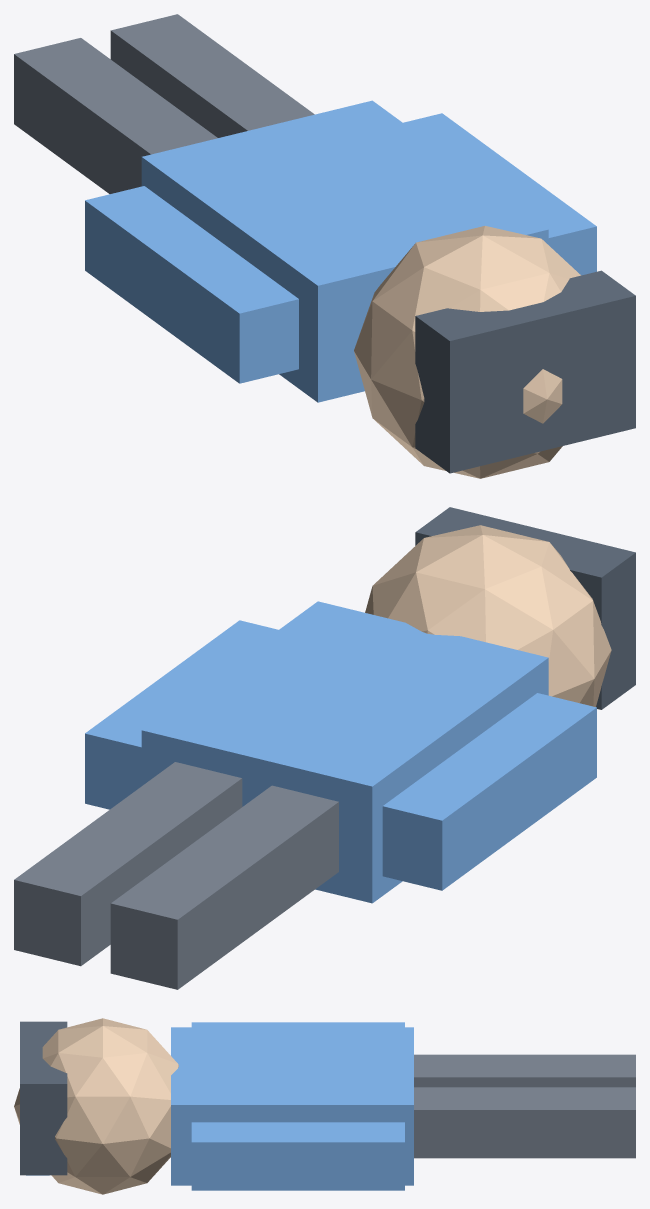
File: ops.glb
3 renders of one model, top to bottom at view 1: azimuth 30°, elevation 25°; view 2: azimuth 150°, elevation 25°; view 3: azimuth 270°, elevation 25°, orthographic. The views are drawn at different scales.
Visible parts, largest first — view 1: torso_2, hair_6, arm_l_3, head_5, leg_l_0, leg_r_1, arm_r_4; view 2: torso_2, leg_l_0, arm_l_3, head_5, leg_r_1, arm_r_4, hair_6; view 3: torso_2, head_5, leg_r_1, arm_r_4, leg_l_0, hair_6, arm_l_3.
Boxes of the visible parts, x1=… form: torso_2: x1=141, y1=100, x2=548, y2=402; hair_6: x1=415, y1=270, x2=635, y2=473; arm_l_3: x1=85, y1=186, x2=298, y2=383; head_5: x1=354, y1=226, x2=580, y2=478; leg_l_0: x1=14, y1=38, x2=217, y2=193; leg_r_1: x1=110, y1=14, x2=314, y2=137; arm_r_4: x1=403, y1=113, x2=596, y2=275; torso_2: x1=141, y1=601, x2=548, y2=903; leg_l_0: x1=110, y1=785, x2=338, y2=989; arm_l_3: x1=382, y1=693, x2=596, y2=890; head_5: x1=365, y1=525, x2=611, y2=706; leg_r_1: x1=14, y1=762, x2=242, y2=966; arm_r_4: x1=85, y1=620, x2=278, y2=809; hair_6: x1=415, y1=507, x2=635, y2=709; torso_2: x1=171, y1=1027, x2=413, y2=1185; head_5: x1=14, y1=1018, x2=178, y2=1194; leg_r_1: x1=414, y1=1087, x2=635, y2=1158; arm_r_4: x1=191, y1=1122, x2=404, y2=1190; leg_l_0: x1=414, y1=1054, x2=635, y2=1087; hair_6: x1=20, y1=1021, x2=67, y2=1175; arm_l_3: x1=191, y1=1022, x2=404, y2=1027.
Size of the model in its own units: 0.96 by 0.6 by 2.1.
